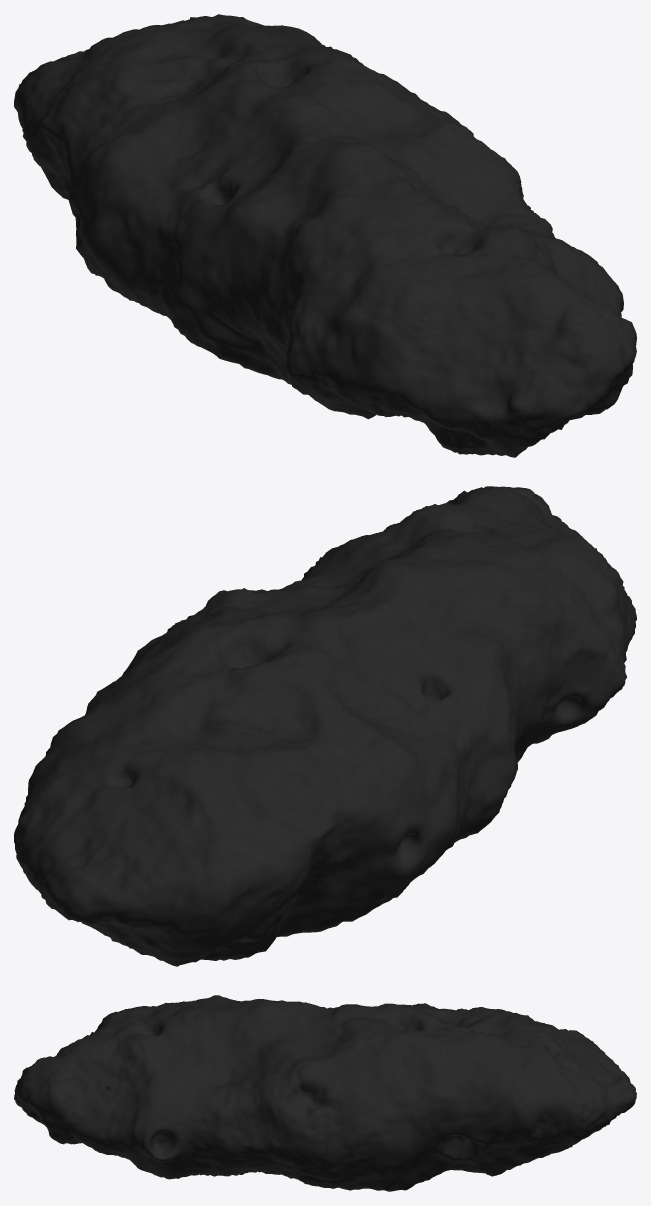
3 views of the same model, one above another, from view 1: azimuth 30°, elevation 25°; view 2: azimuth 150°, elevation 25°; view 3: azimuth 270°, elevation 25° (orthographic). The views are drawn at different scales.
Parts seen in each view (by area): view 1: Asteroid D_0; view 2: Asteroid D_0; view 3: Asteroid D_0.
Boxes of the visible parts, left/top/right/bottom form: Asteroid D_0: left=14, top=14, right=636, bottom=457; Asteroid D_0: left=14, top=486, right=636, bottom=966; Asteroid D_0: left=14, top=995, right=636, bottom=1191.
Bounding box in the file's own units: 20.99 × 14.34 × 49.19.
